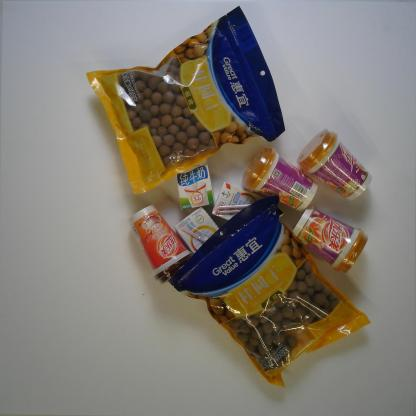Dried Food: (167, 192, 374, 390), (84, 4, 289, 197)
Instant Drink: (296, 126, 373, 203), (290, 207, 372, 275), (127, 203, 193, 285), (241, 146, 320, 214)
Milk: (212, 180, 283, 227), (174, 206, 225, 256), (174, 158, 215, 210)
